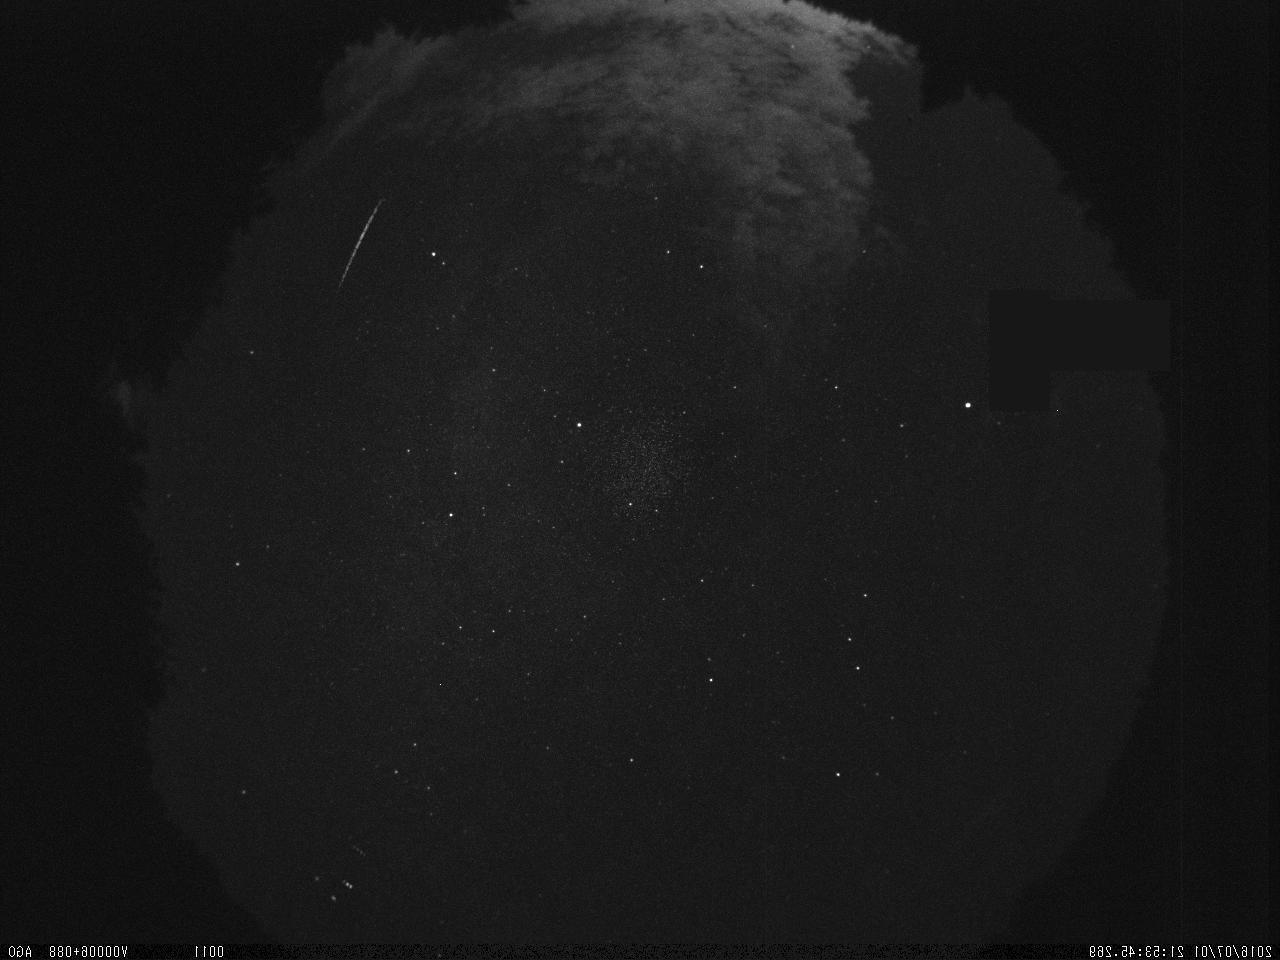meteor: (314, 192, 391, 316)
